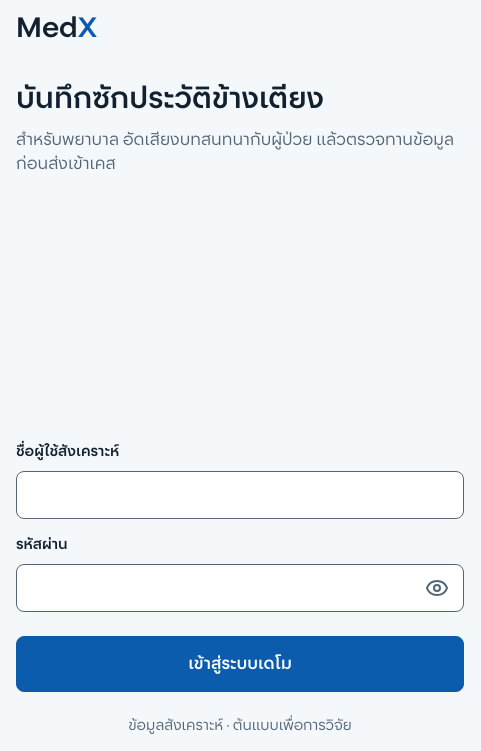
it: role and session (ScribeApp) › non-nurse login → Wrong role
Type "physician1" into the field labelled "ชื่อผู้ใช้สังเคราะห์" at (240, 495), box [33,472,447,518]
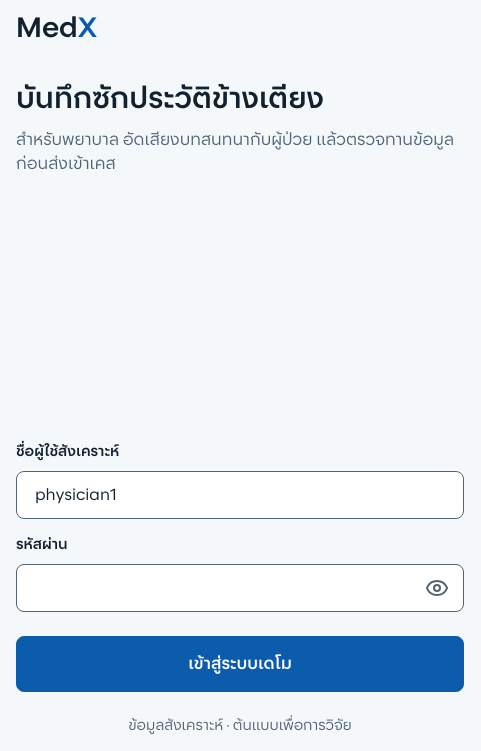
Click the button "เข้าสู่ระบบเดโม" at (240, 664), box [16,636,464,692]
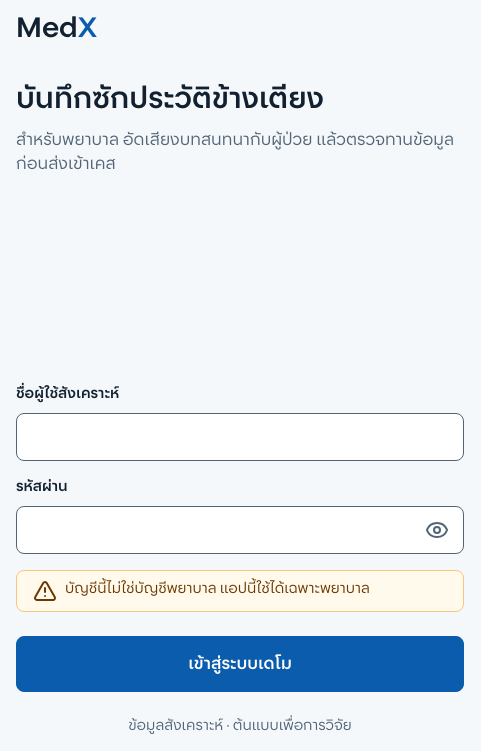
Result: the text "บัญชีนี้ไม่ใช่บัญชีพยาบาล แอปนี้ใช้ได้เฉพาะพยาบาล" is shown at [65,582,370,596]
